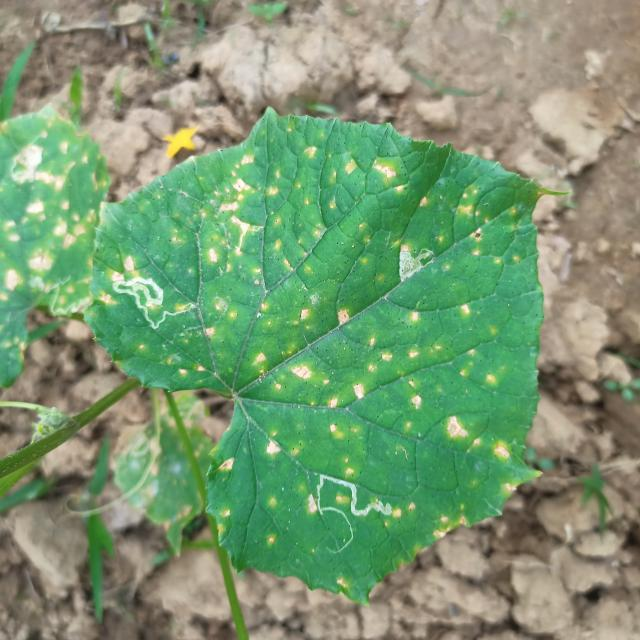disease_cucumber: (100, 126, 526, 551), (0, 117, 87, 340)
